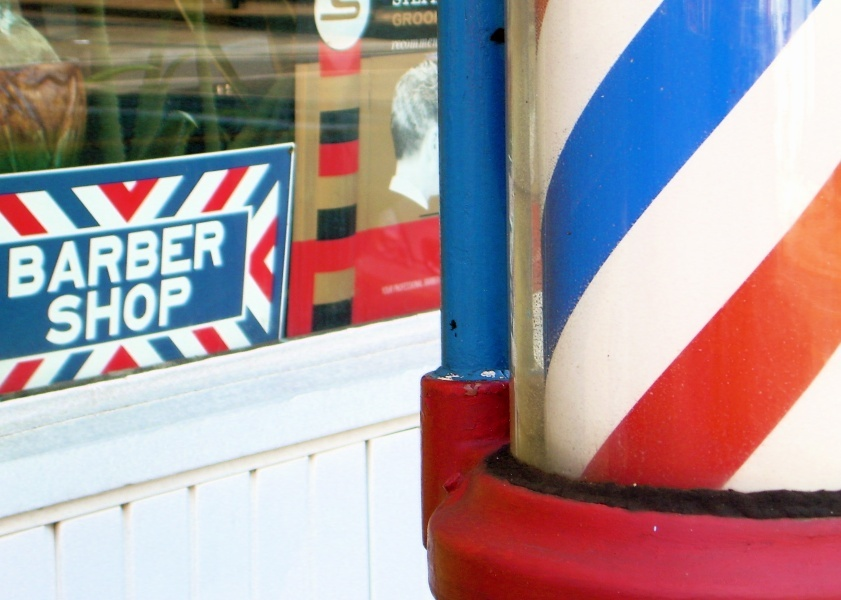text: (17, 218, 32, 301), (33, 218, 48, 301), (49, 218, 64, 301), (65, 218, 80, 301), (81, 218, 96, 301), (97, 218, 112, 301), (113, 218, 128, 301), (129, 218, 144, 301), (145, 218, 160, 301), (161, 218, 176, 301), (177, 218, 192, 301), (193, 218, 208, 301), (209, 218, 224, 301), (49, 275, 64, 348), (65, 275, 80, 348), (81, 275, 96, 348), (97, 275, 112, 348), (113, 275, 128, 348), (129, 275, 144, 348), (145, 275, 160, 348), (161, 275, 176, 348), (177, 275, 192, 348), (6, 218, 16, 301), (385, 271, 400, 301), (401, 271, 416, 301), (417, 271, 432, 301), (225, 218, 229, 301), (433, 271, 443, 301), (401, 10, 416, 28), (417, 10, 432, 28), (401, 35, 416, 52), (417, 35, 432, 52), (193, 275, 196, 348), (391, 10, 400, 28), (391, 35, 400, 52), (379, 271, 384, 301), (46, 275, 48, 348), (433, 35, 439, 52), (433, 10, 438, 28)
